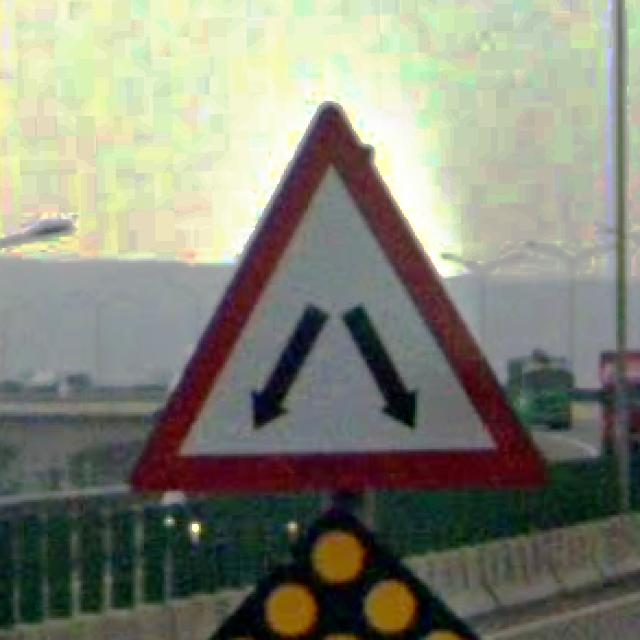diverge: (124, 98, 548, 500)
